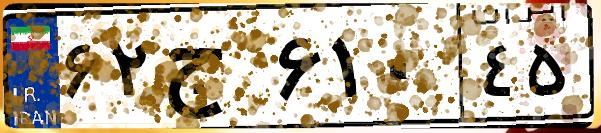0: (385, 28, 445, 110)
1: (330, 28, 385, 110)
2: (110, 28, 158, 98)
4: (475, 38, 525, 113)
5: (525, 38, 570, 115)
6: (270, 28, 330, 110), (57, 26, 110, 100)
ج: (158, 20, 270, 120)
